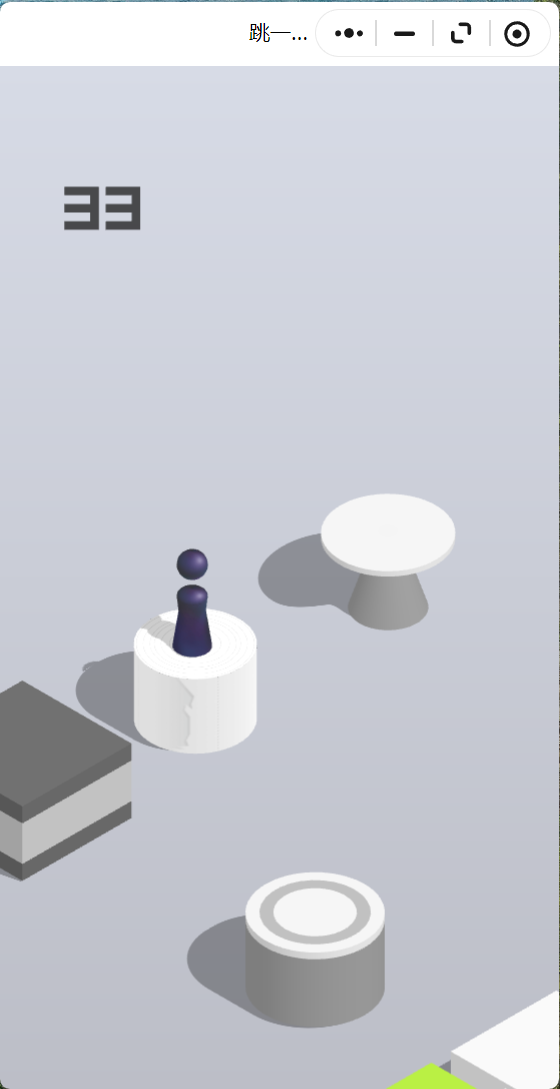piece: (177, 550, 208, 655)
target: (321, 493, 454, 571)
